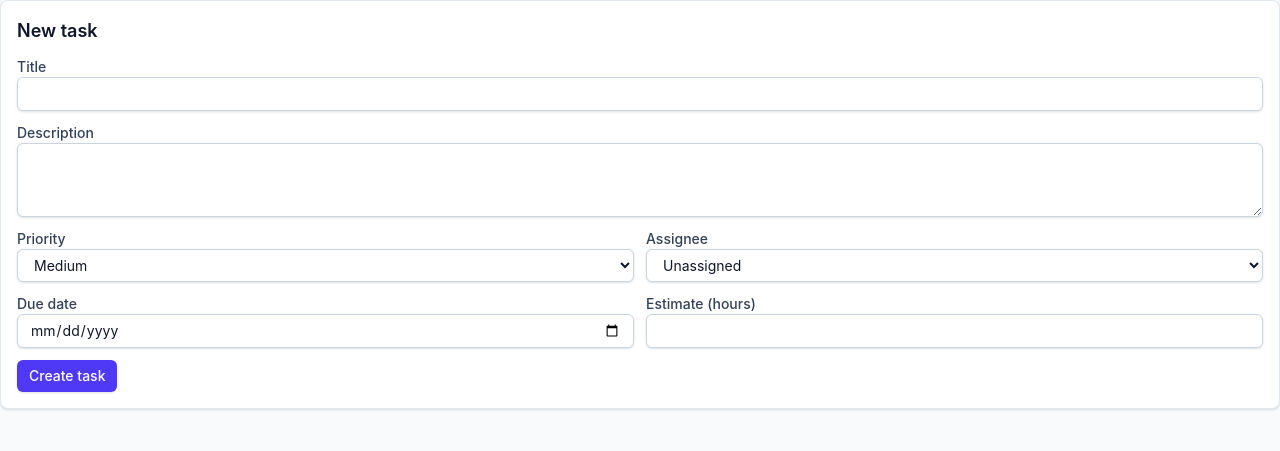
Test: CreateTaskForm validation › trims the title before checking its length
In the field labelled "Title": x=640, y=94 [17,77,1263,111], type "   ab   "
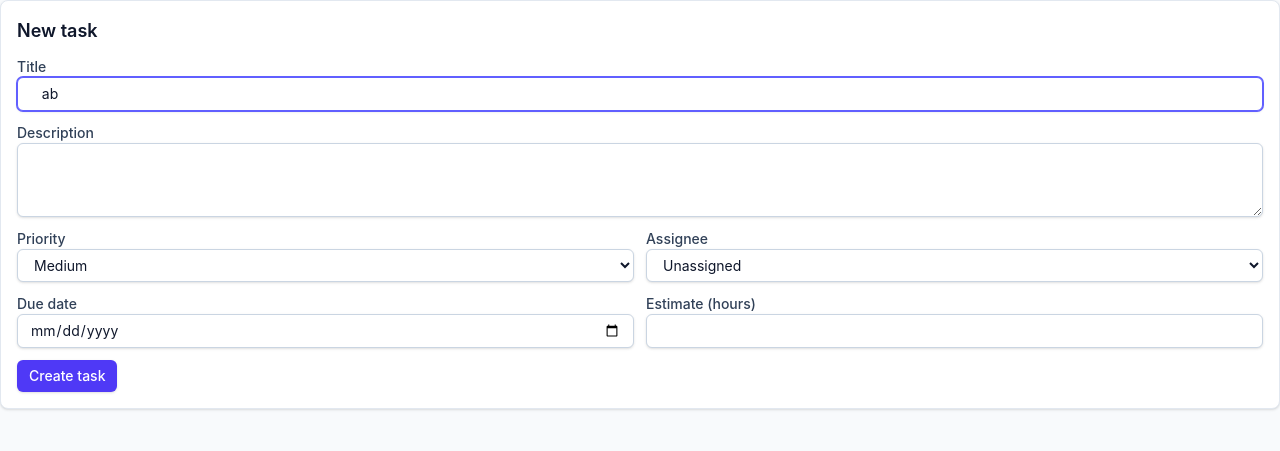
Click the button "Create task": x=67, y=376 [17,360,118,392]
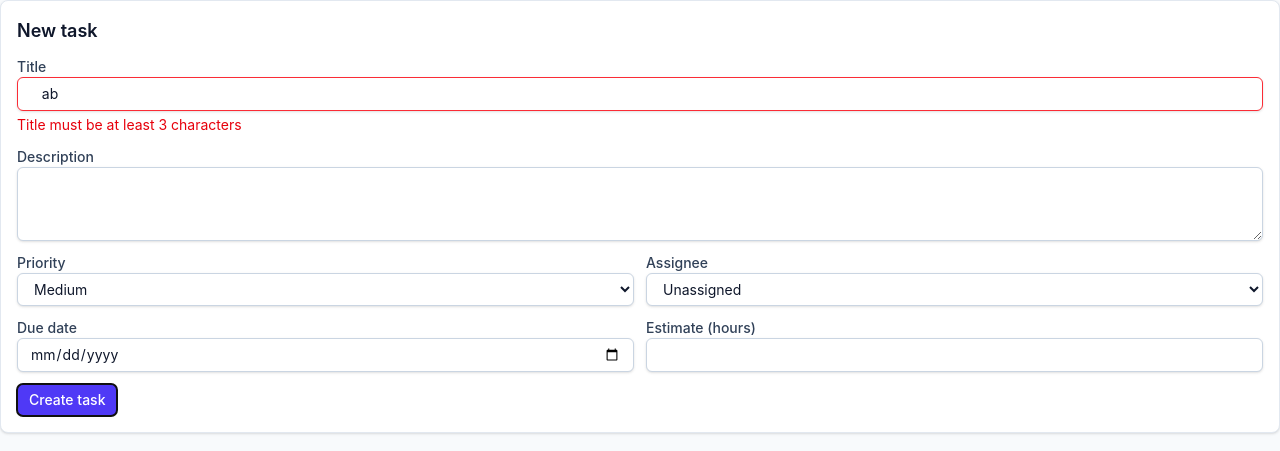
Result: the text "Title must be at least 3 characters" is shown at [17,116,242,133]
